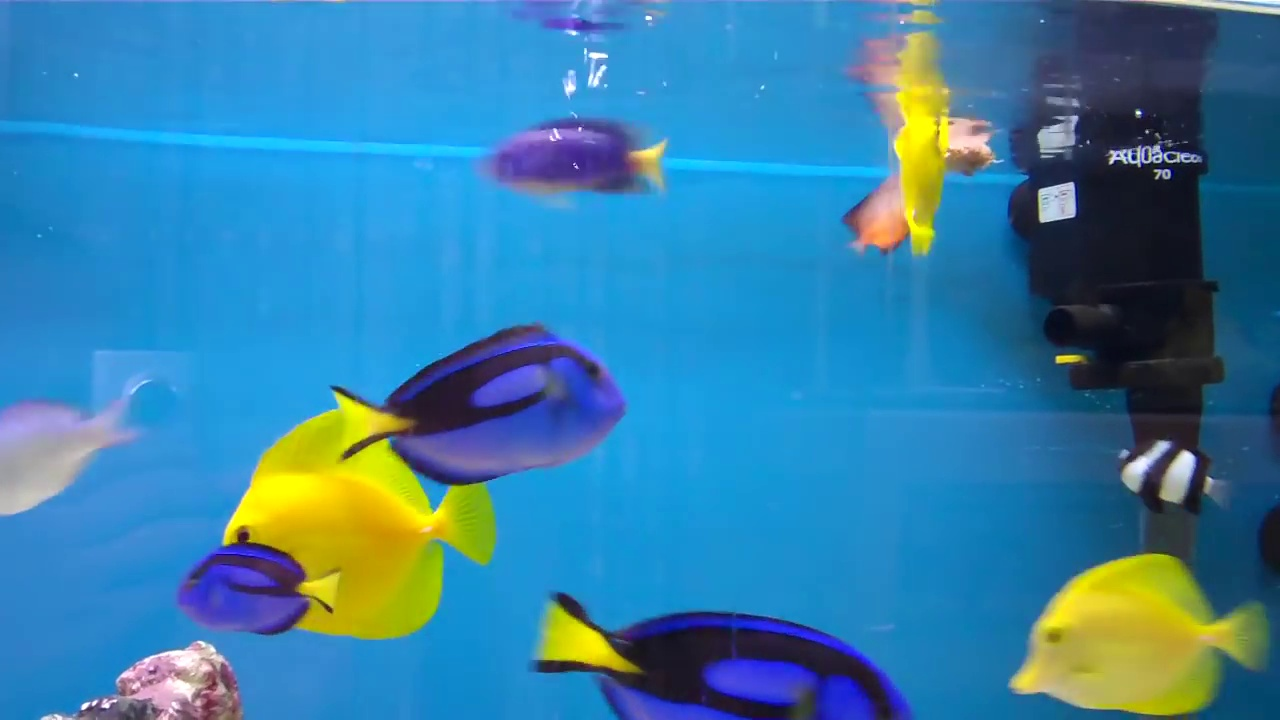blue tang surgeonfish: (316, 336, 623, 483), (146, 535, 340, 634)
saddle butterfly fish: (231, 395, 494, 643), (1011, 549, 1266, 720)
